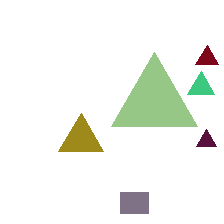rectangle: (120, 192, 148, 213)
triangle: (111, 52, 197, 126), (58, 113, 103, 151), (187, 71, 214, 94), (195, 45, 218, 64), (196, 129, 216, 146)
